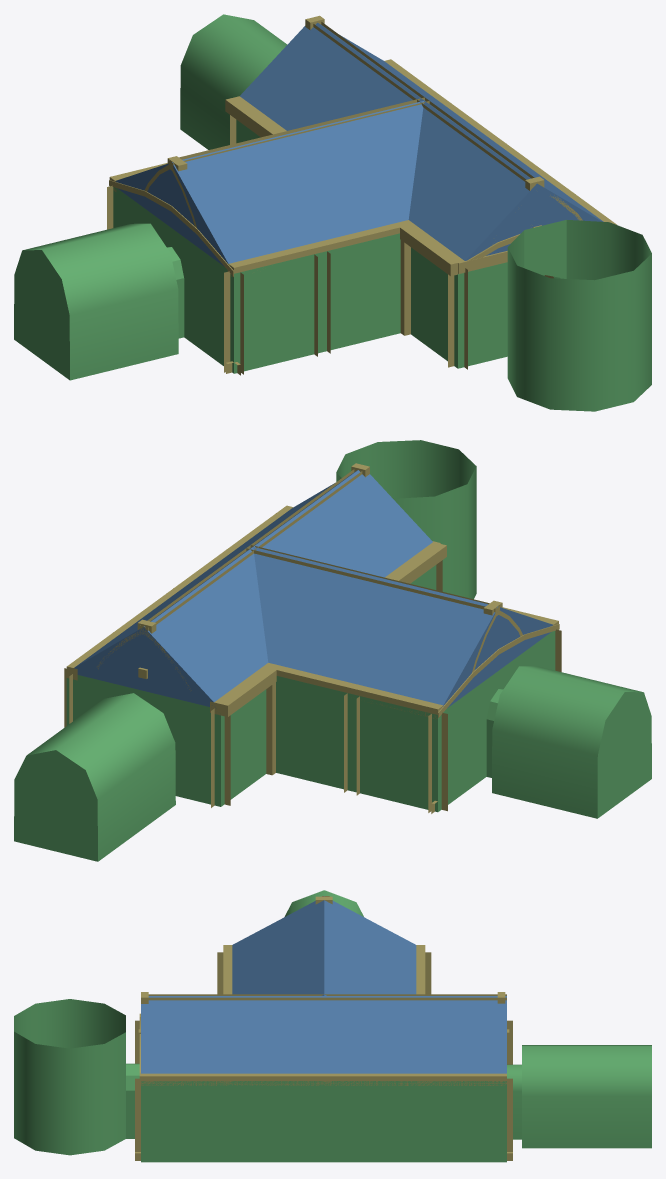
The model's file is Level_01_ALL_VERSION_01.fbx.
The picture shows the model from 3 angles, top to bottom: view 1: azimuth 30°, elevation 25°; view 2: azimuth 150°, elevation 25°; view 3: azimuth 270°, elevation 25°; orthographic projection. The views are drawn at different scales.
Visible parts, largest first — view 1: Walls_ALL_01, RoofTop_Main_01, Wood_Type_B_01, Wall_Pilars_Protections_01, Wood_Top_Type_01, Wood_Type_A_01; view 2: Walls_ALL_01, RoofTop_Main_01, Wood_Type_B_01, Wall_Pilars_Protections_01, Wood_Top_Type_01, Wood_Type_A_01; view 3: Walls_ALL_01, RoofTop_Main_01, Wood_Type_B_01, Wood_Top_Type_01, Wall_Pilars_Protections_01.
Boxes of the visible parts, x1,y1,x2,y2 form: Walls_ALL_01: [14, 14, 651, 411]; RoofTop_Main_01: [116, 22, 603, 266]; Wood_Type_B_01: [109, 15, 616, 277]; Wall_Pilars_Protections_01: [107, 115, 553, 375]; Wood_Top_Type_01: [144, 22, 582, 244]; Wood_Type_A_01: [109, 180, 519, 276]; Walls_ALL_01: [14, 440, 651, 861]; RoofTop_Main_01: [74, 470, 553, 707]; Wood_Type_B_01: [66, 463, 558, 718]; Wall_Pilars_Protections_01: [64, 560, 561, 813]; Wood_Top_Type_01: [97, 469, 522, 691]; Wood_Type_A_01: [438, 624, 559, 717]; Walls_ALL_01: [14, 890, 651, 1162]; RoofTop_Main_01: [141, 896, 506, 1073]; Wood_Type_B_01: [138, 896, 509, 1085]; Wood_Top_Type_01: [148, 896, 506, 1000]; Wall_Pilars_Protections_01: [135, 952, 512, 1160].
Size of the model in its own units: 2609 by 893 by 3794.
